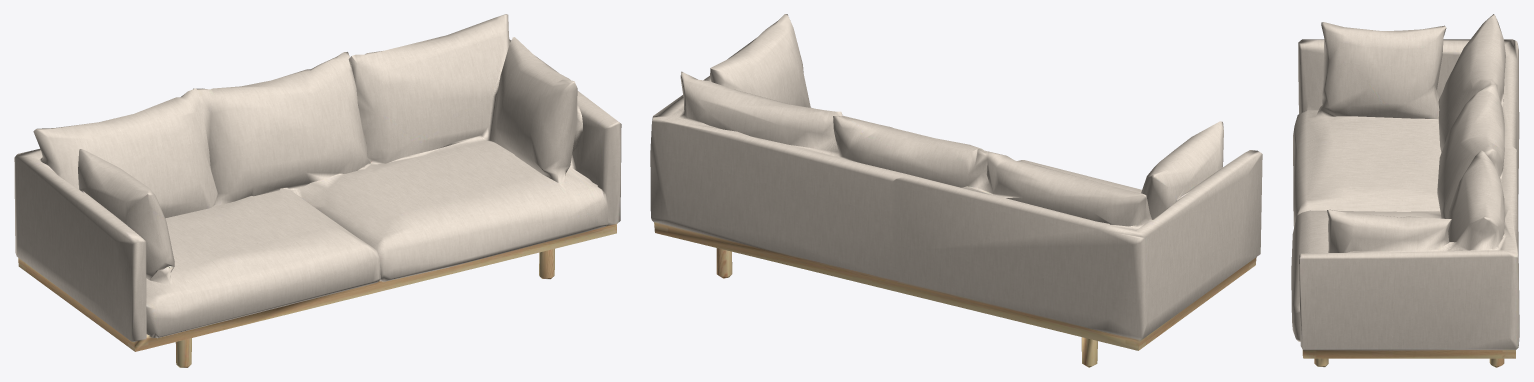
File: stockholm_2025_sofa_3_osobowa_90586092.glb
The picture shows the model from 3 angles, left to right: view 1: azimuth 30°, elevation 25°; view 2: azimuth 150°, elevation 25°; view 3: azimuth 270°, elevation 25°; orthographic projection. The views are drawn at different scales.
Visible parts, largest first — view 1: stockholm_2025_sofa_3_osobowa_90586092; view 2: stockholm_2025_sofa_3_osobowa_90586092; view 3: stockholm_2025_sofa_3_osobowa_90586092.
Part boxes in pixels (left/top/right/bottom): stockholm_2025_sofa_3_osobowa_90586092: left=14, top=14, right=621, bottom=367; stockholm_2025_sofa_3_osobowa_90586092: left=650, top=14, right=1262, bottom=367; stockholm_2025_sofa_3_osobowa_90586092: left=1291, top=14, right=1519, bottom=367.
Size of the model in its own units: 2.36 by 0.8516 by 1.04.
1 material, 1 textured.
